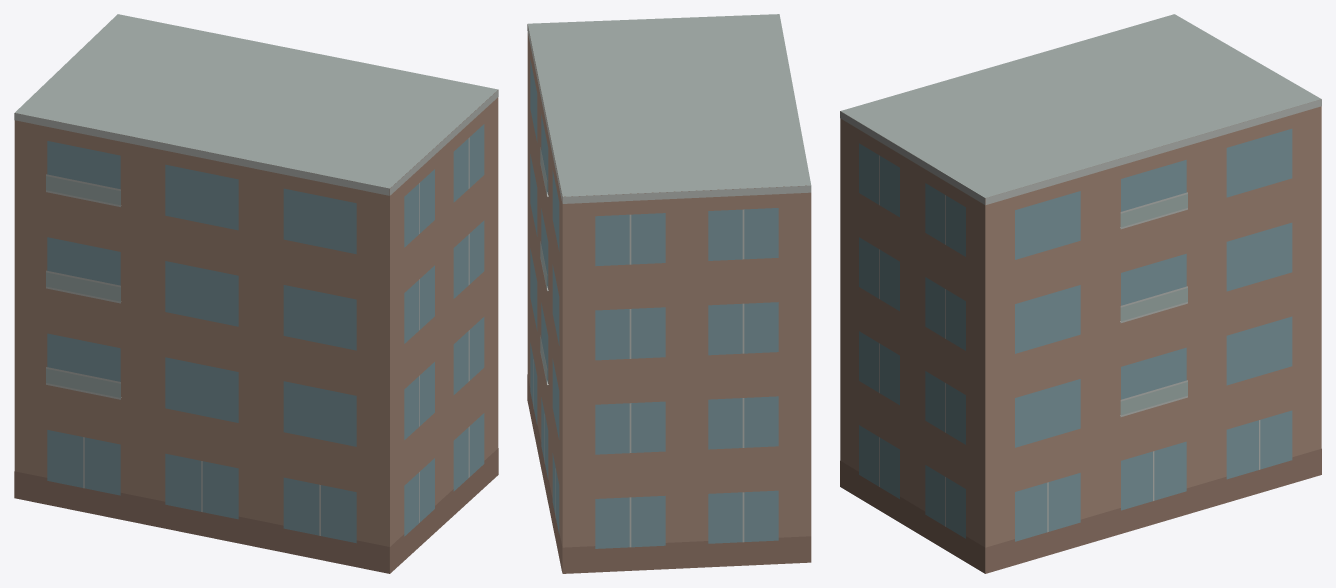
File: survey-upis-32506476.glb
3 renders of one model, left to right at view 1: azimuth 30°, elevation 25°; view 2: azimuth 150°, elevation 25°; view 3: azimuth 270°, elevation 25°, orthographic. The views are drawn at different scales.
Parts seen in each view (by area): view 1: survey-upis-32506476.tmp; view 2: survey-upis-32506476.tmp; view 3: survey-upis-32506476.tmp.
Boxes of the visible parts, bbox=[...] form: survey-upis-32506476.tmp: bbox=[14, 14, 498, 573]; survey-upis-32506476.tmp: bbox=[527, 14, 811, 573]; survey-upis-32506476.tmp: bbox=[840, 14, 1321, 573].
Bounding box in the file's own units: 13.46 × 12.8 × 14.87.
